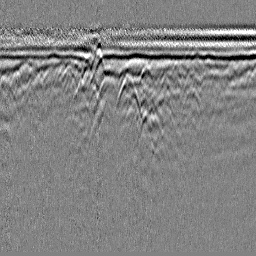cavity: (114, 70, 142, 117)
